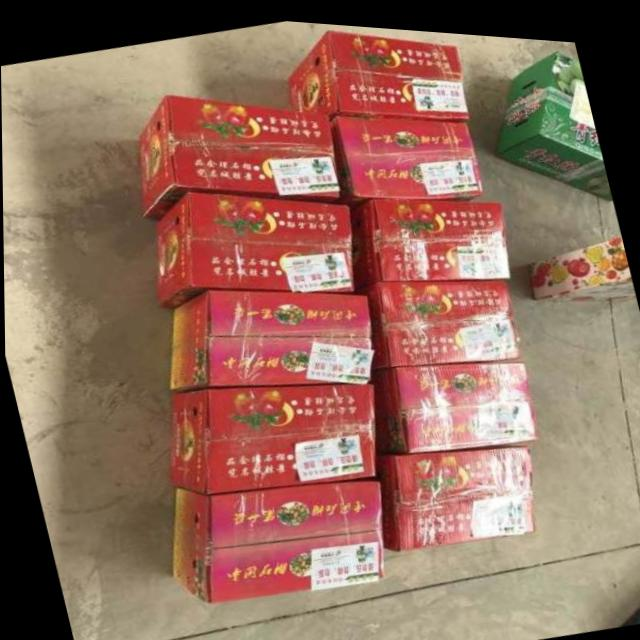box: (169, 472, 381, 601), (138, 91, 338, 217), (168, 377, 374, 491), (156, 190, 354, 306), (168, 286, 371, 390), (494, 42, 612, 191), (378, 437, 534, 545), (285, 24, 468, 115), (373, 353, 539, 448), (356, 271, 517, 365), (349, 191, 510, 282), (330, 110, 483, 201), (528, 226, 635, 291)
